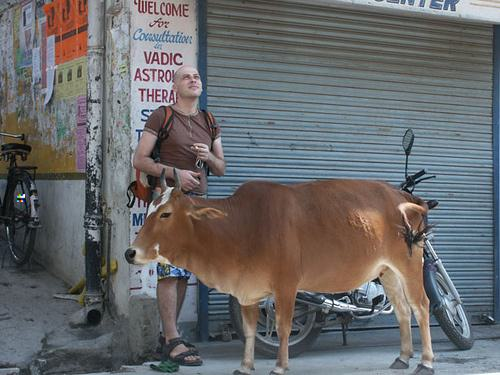car: (1, 131, 42, 266)
cow: (125, 167, 431, 375)
motorbike: (229, 128, 475, 361)
person: (134, 65, 227, 366)
